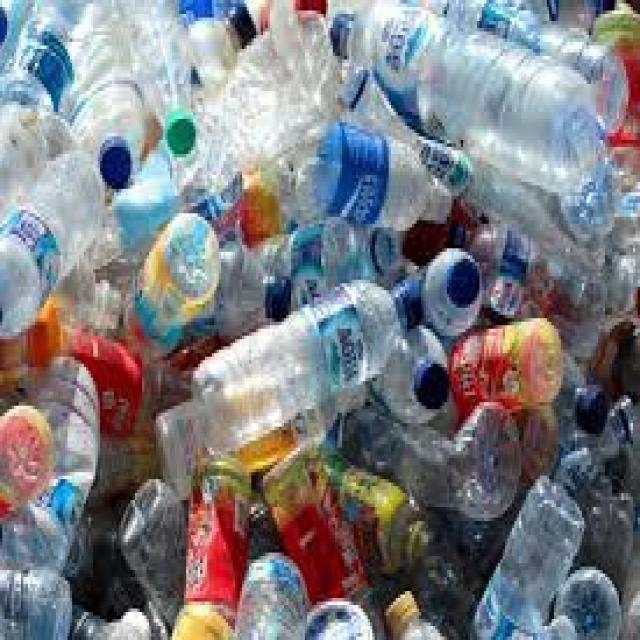Plastic: (324, 0, 601, 186), (192, 241, 428, 447), (432, 0, 632, 145), (461, 470, 583, 640), (0, 149, 101, 344), (52, 0, 149, 184), (114, 0, 205, 156)
